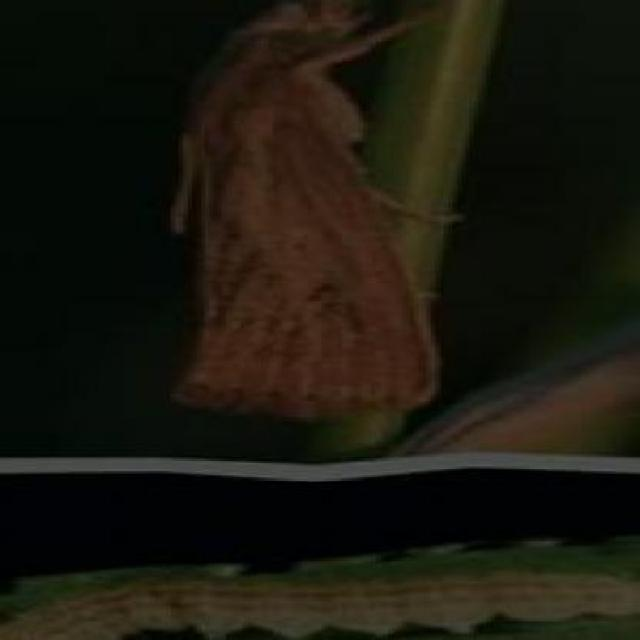stem-borer: (149, 0, 468, 422)
